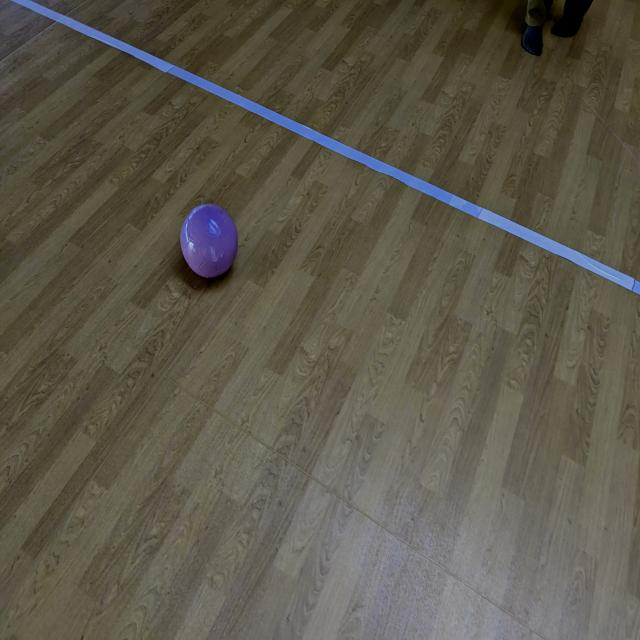purple_ball: (180, 205, 240, 277)
